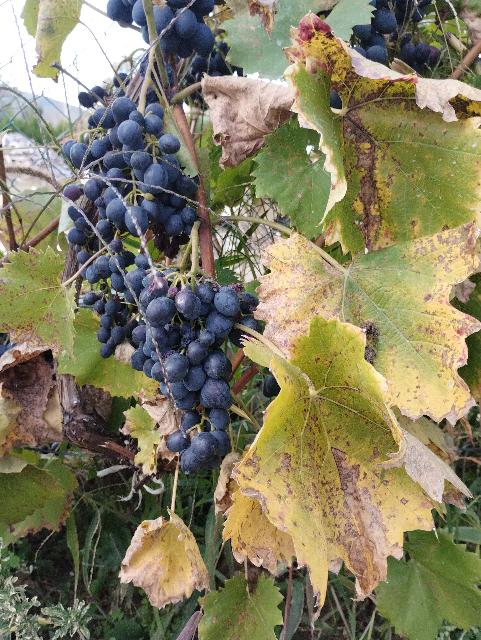grapes: (64, 96, 199, 302), (131, 274, 258, 474)
